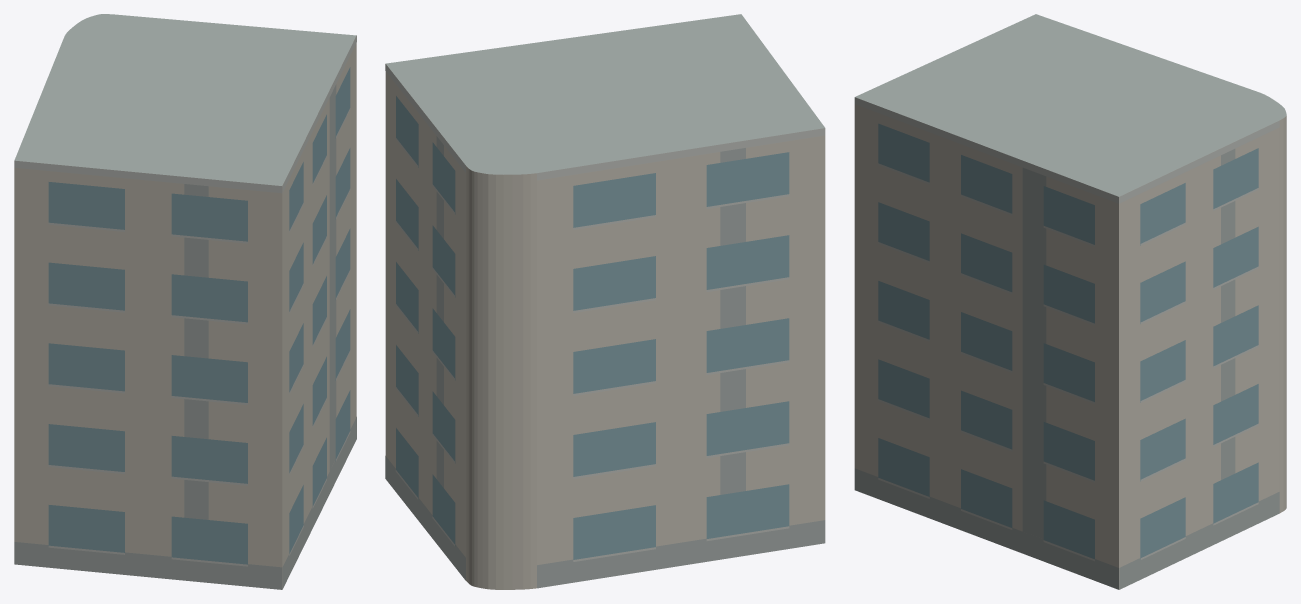
The model's file is survey-upis-32526081.glb.
3 views of the same model, side by side, from view 1: azimuth 30°, elevation 25°; view 2: azimuth 150°, elevation 25°; view 3: azimuth 270°, elevation 25° (orthographic). The views are drawn at different scales.
Parts seen in each view (by area): view 1: survey-upis-32526081.tmp; view 2: survey-upis-32526081.tmp; view 3: survey-upis-32526081.tmp.
Part boxes in pixels (box(x1,y1,x2,y2)): survey-upis-32526081.tmp: box(14, 14, 356, 589); survey-upis-32526081.tmp: box(385, 14, 825, 589); survey-upis-32526081.tmp: box(854, 14, 1286, 589).
Size of the model in its own units: 13.78 by 13.8 by 13.75.
